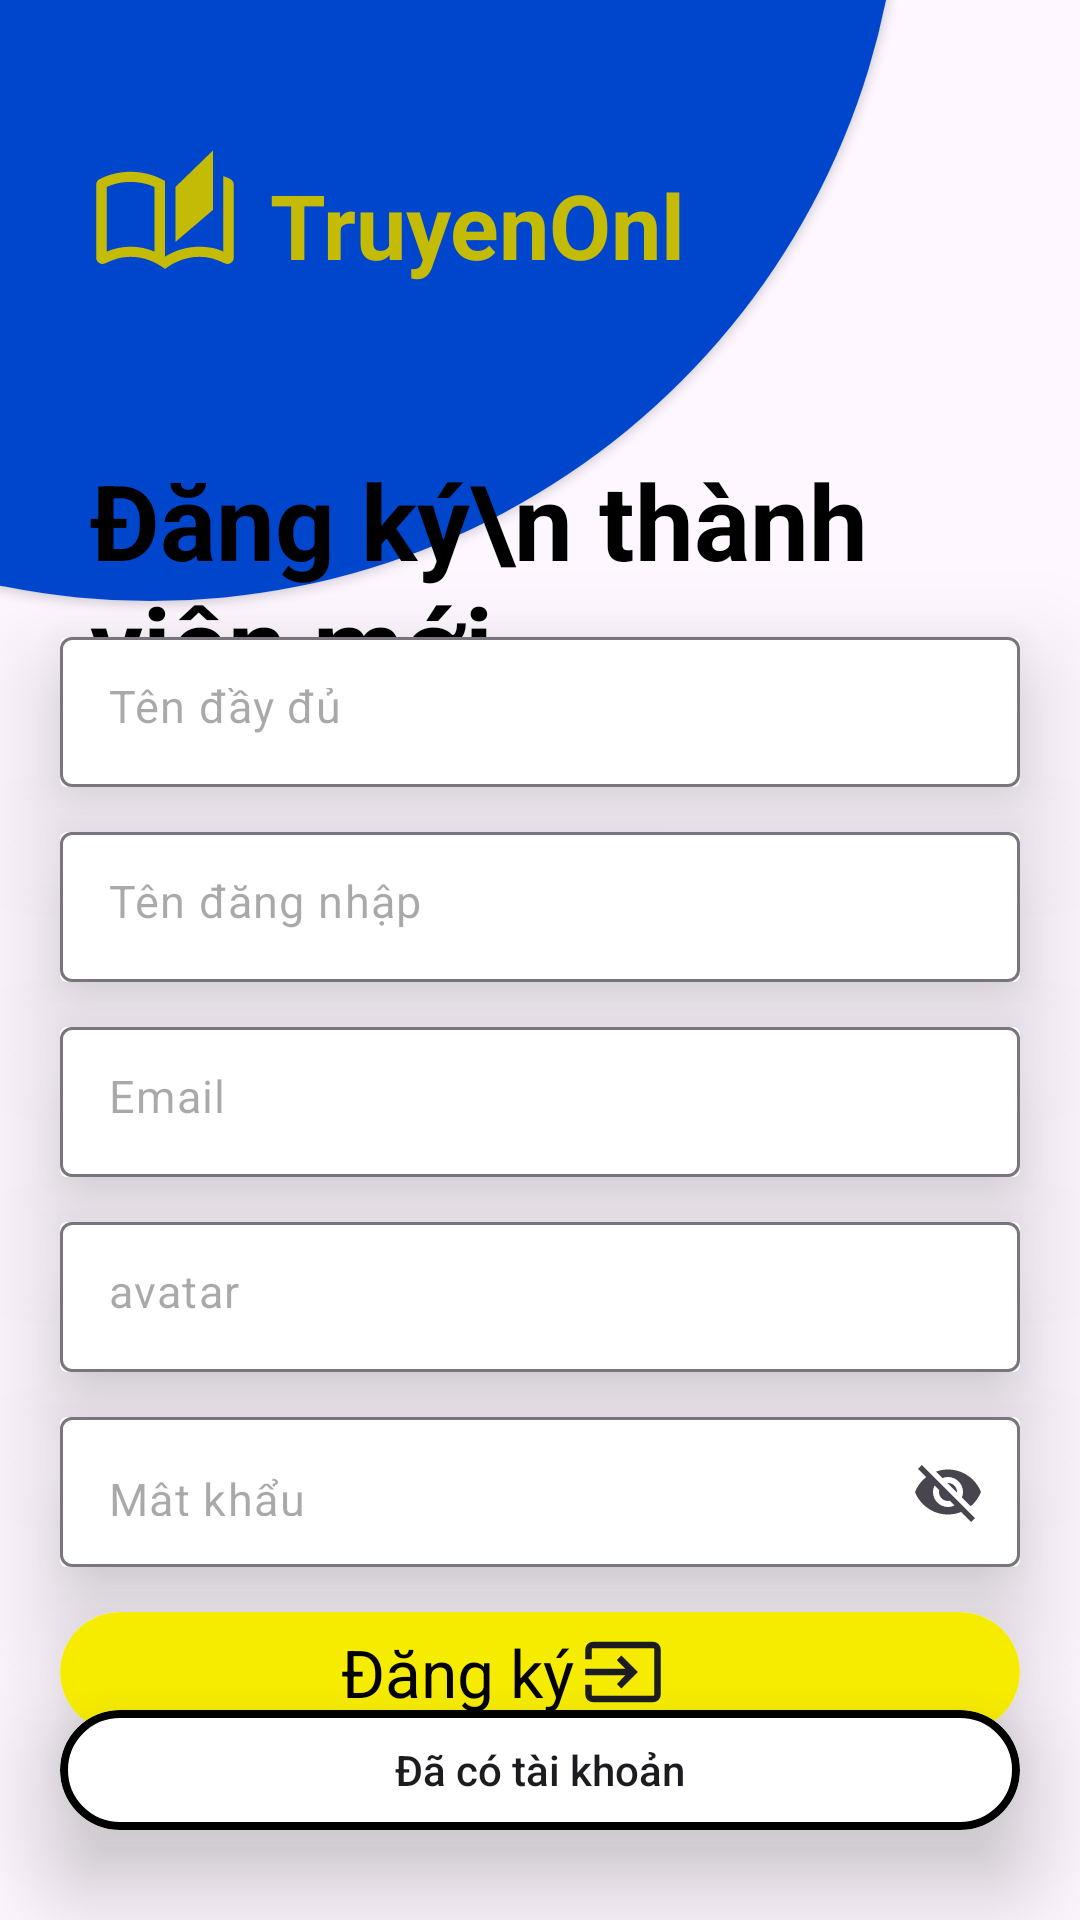

Named icons in this screenshot (1080px x 1920px) and their bounding boxes, (x1, y1, x2, y2):
inputlogin: (585, 1641, 661, 1703)
